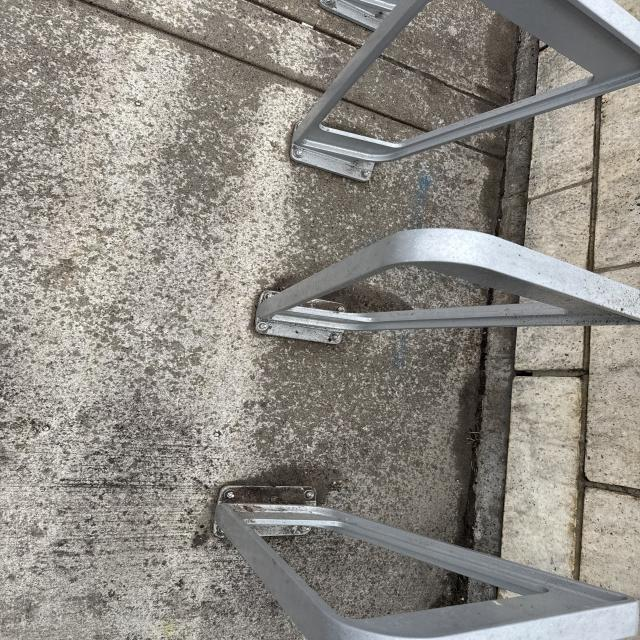Bicycle Rack: (214, 484, 634, 640), (286, 0, 634, 180), (252, 228, 640, 344)
